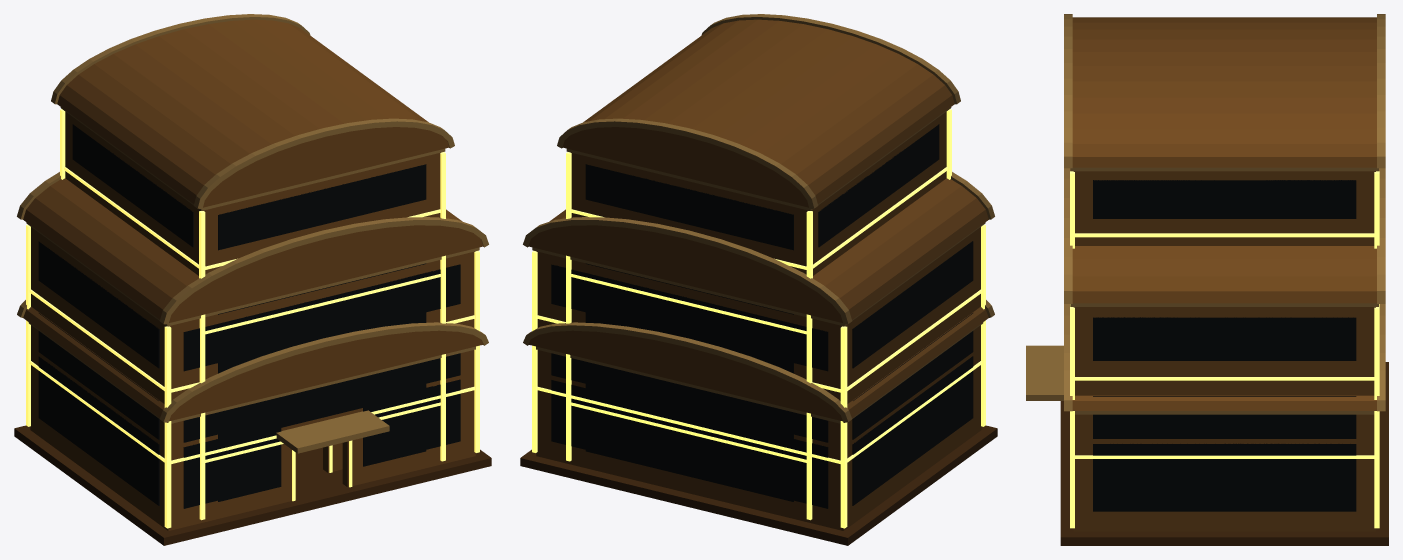
The model's file is shaddai_realm_town_desert_v01.glb.
3 views of the same model, side by side, from view 1: azimuth 30°, elevation 25°; view 2: azimuth 150°, elevation 25°; view 3: azimuth 270°, elevation 25° (orthographic). The views are drawn at different scales.
Parts seen in each view (by area): view 1: shaddai_bld_desert_apartments, shaddai_bld_desert_inn, shaddai_bld_desert_workshop, shaddai_bld_desert_home; view 2: shaddai_bld_desert_apartments, shaddai_bld_desert_inn, shaddai_bld_desert_workshop; view 3: shaddai_bld_desert_inn, shaddai_bld_desert_apartments, shaddai_bld_desert_workshop.
Boxes of the visible parts, x1,y1,x2,y2 form: shaddai_bld_desert_apartments: (51,14,457,537); shaddai_bld_desert_inn: (14,172,491,545); shaddai_bld_desert_workshop: (17,300,488,530); shaddai_bld_desert_home: (276,433,342,482); shaddai_bld_desert_apartments: (554,14,960,537); shaddai_bld_desert_inn: (520,172,997,545); shaddai_bld_desert_workshop: (523,300,994,529); shaddai_bld_desert_inn: (1060,168,1388,545); shaddai_bld_desert_apartments: (1026,14,1385,400); shaddai_bld_desert_workshop: (1064,304,1385,531).
Bounding box in the file's own units: 19.2 × 20.93 × 16.8.
